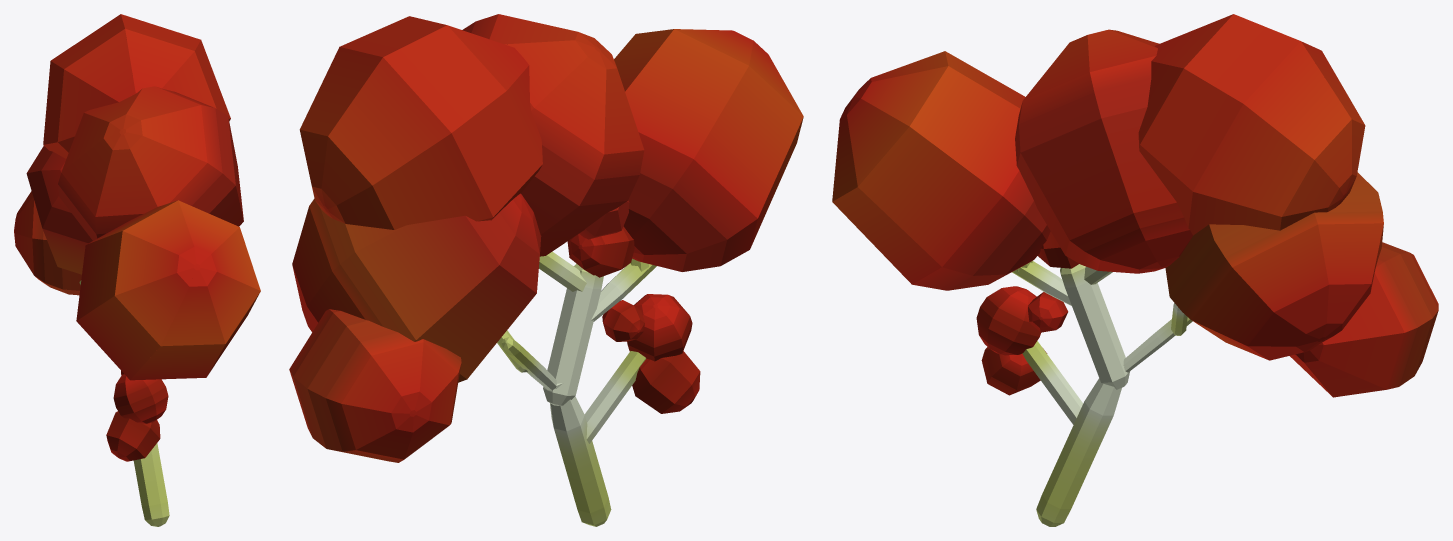
Rendered from AssetsheidiCloudTree1 2.fbx.
3 renders of one model, left to right at view 1: azimuth 30°, elevation 25°; view 2: azimuth 150°, elevation 25°; view 3: azimuth 270°, elevation 25°, orthographic. The views are drawn at different scales.
Visible parts, largest first — view 1: Lleafwhhi, NewLayer4; view 2: Lleafwhhi, NewLayer4; view 3: Lleafwhhi, NewLayer4.
Part boxes in pixels (x1,y1,x2,y2): Lleafwhhi: (14,14,260,461); NewLayer4: (79,280,169,526); Lleafwhhi: (289,14,803,462); NewLayer4: (497,251,656,526); Lleafwhhi: (832,14,1438,397); NewLayer4: (1012,260,1192,526).
Bounding box in the file's own units: 0.3998 × 0.7 × 0.7175.
